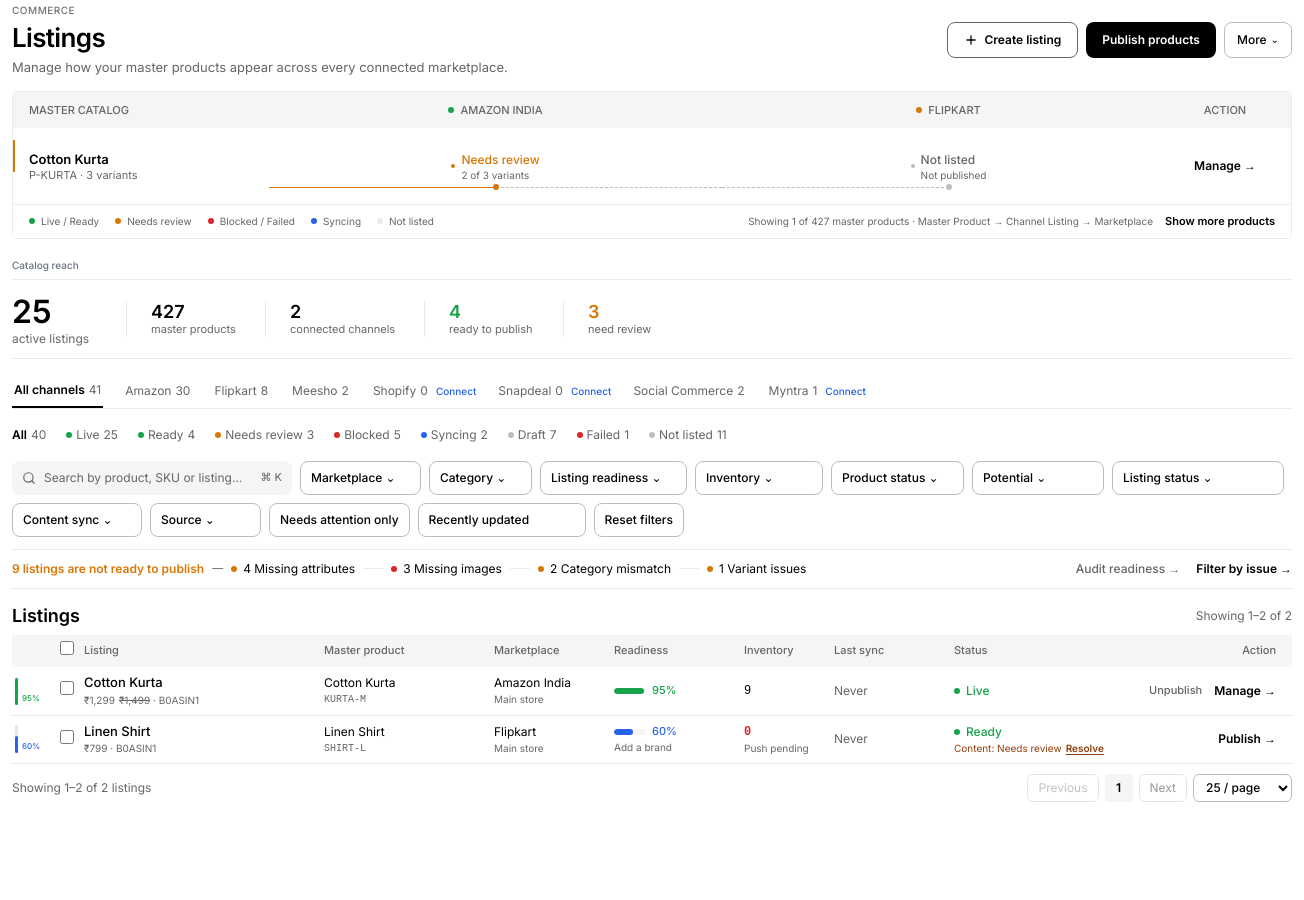
Test case: ListingsPage › shows the catalogue reach, the matrix and why listings are not ready from the API
Expected: the text "25" in the row of "connected channels" is shown, 12,292 -> 52,330
Expected: the text "427" is shown, 151,301 -> 185,323
Click the button "3 need review" at coordinates (628, 318), box 588,301 -> 668,336
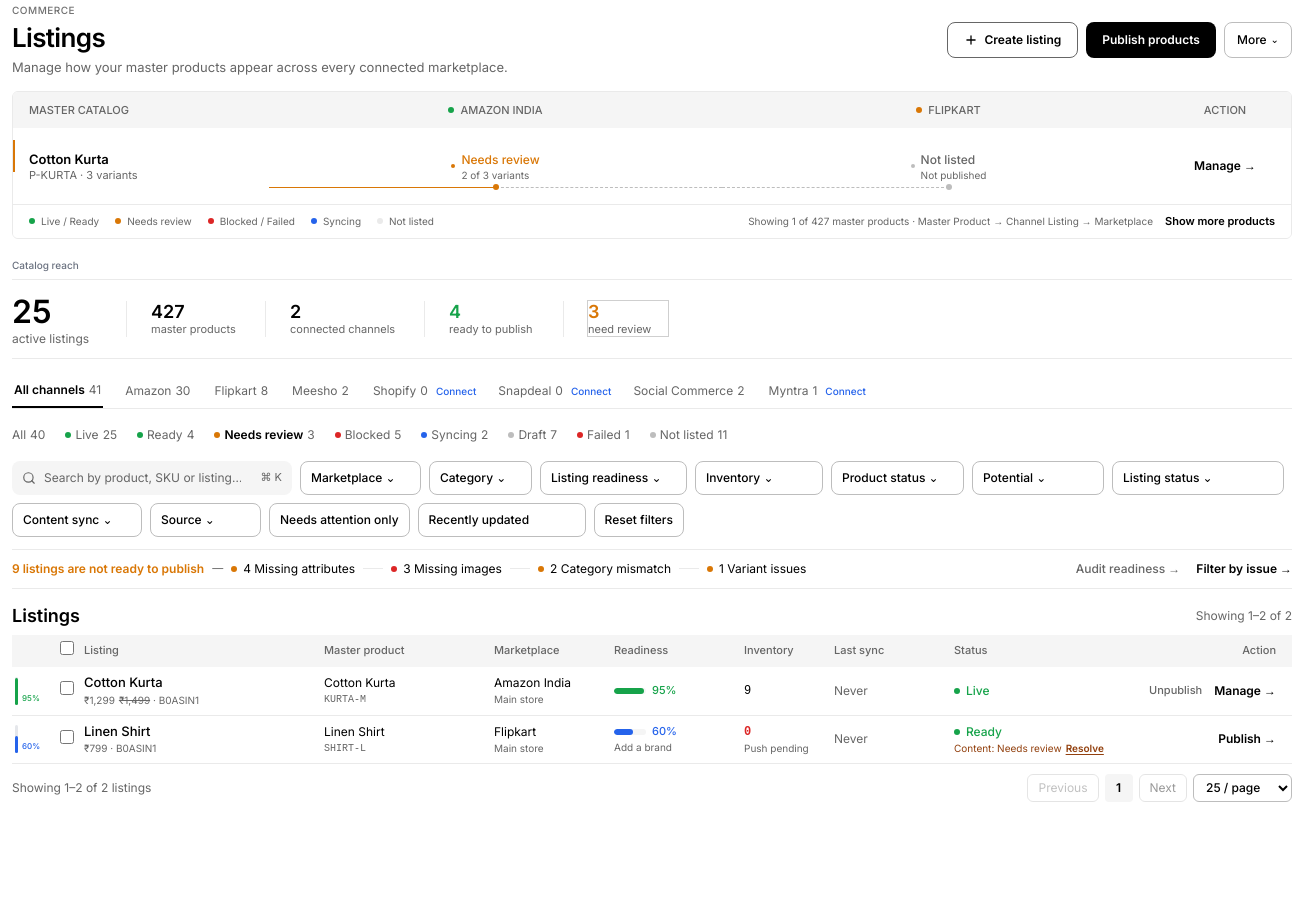
Click the button "Filter by issue →" at coordinates (1244, 568), box 1196,560 -> 1292,578
(page scrolled)
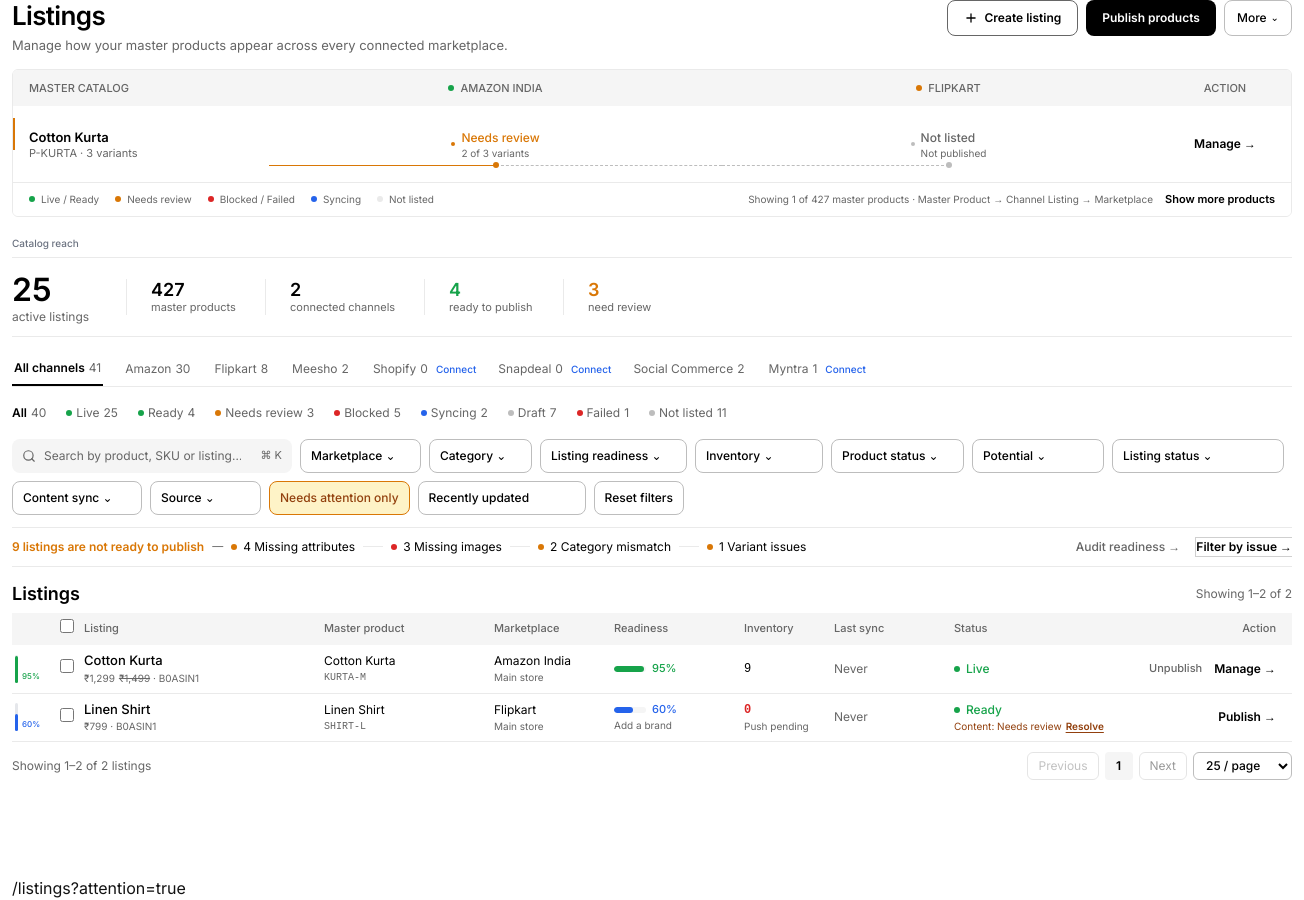
Now the text with test id "loc" reads "/listings?attention=true", box 12,878 -> 186,898
